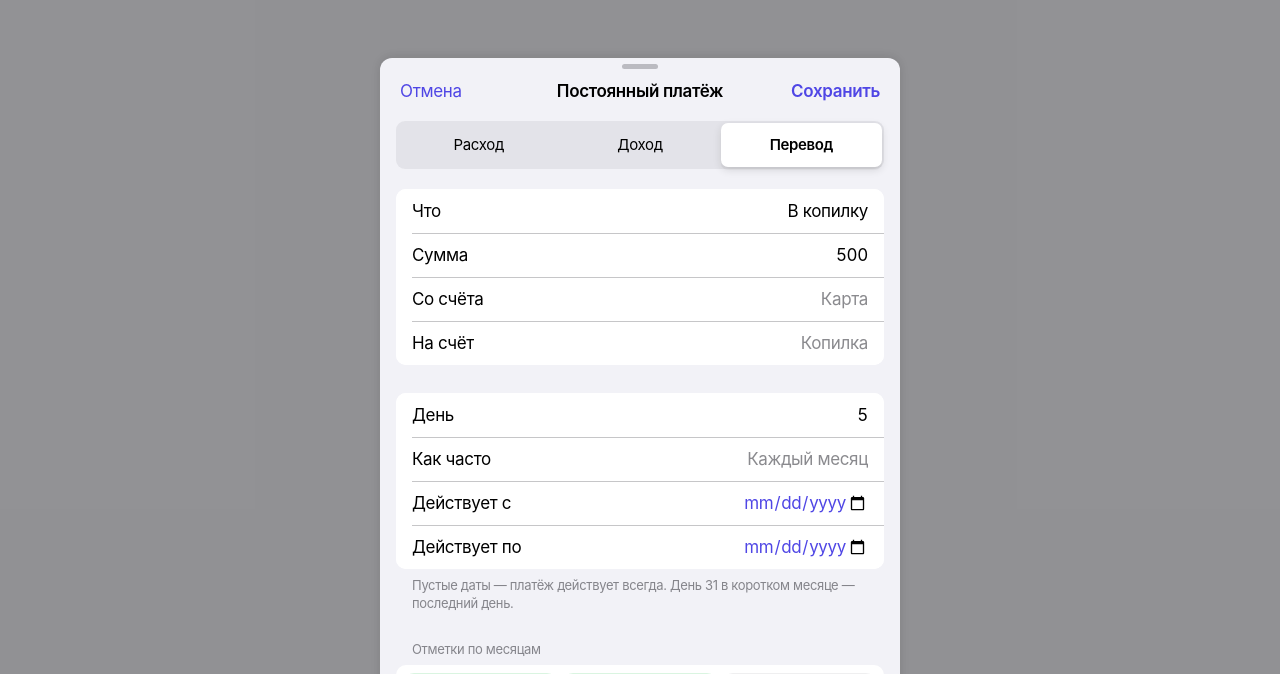
Test: RecurringForm — «Перевод» › editing a recurring transfer keeps «На счёт»; «Доход» on savings shows the hint
The image size is (1280, 674).
Click the radio button labelled "Доход".
click(640, 145)  # box [559,123,721,167]
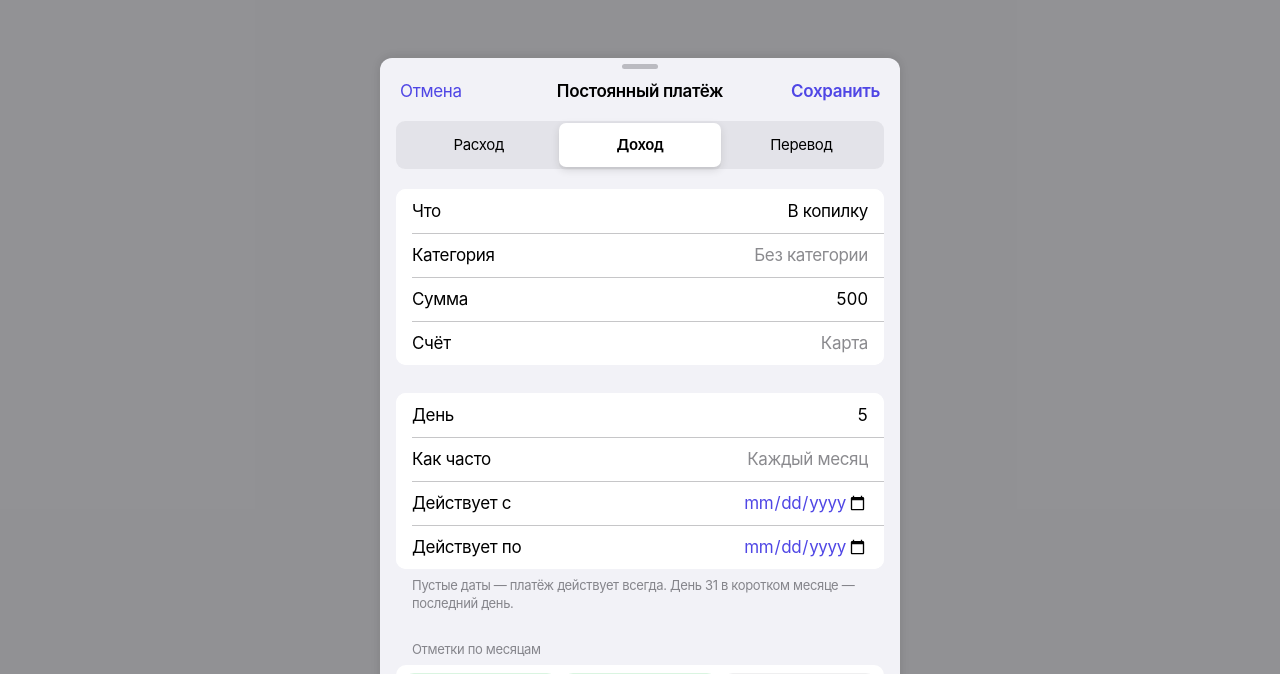
Select "Вклад" in the dropdown labelled "Счёт" at [665, 343], box [463,321,868,365]
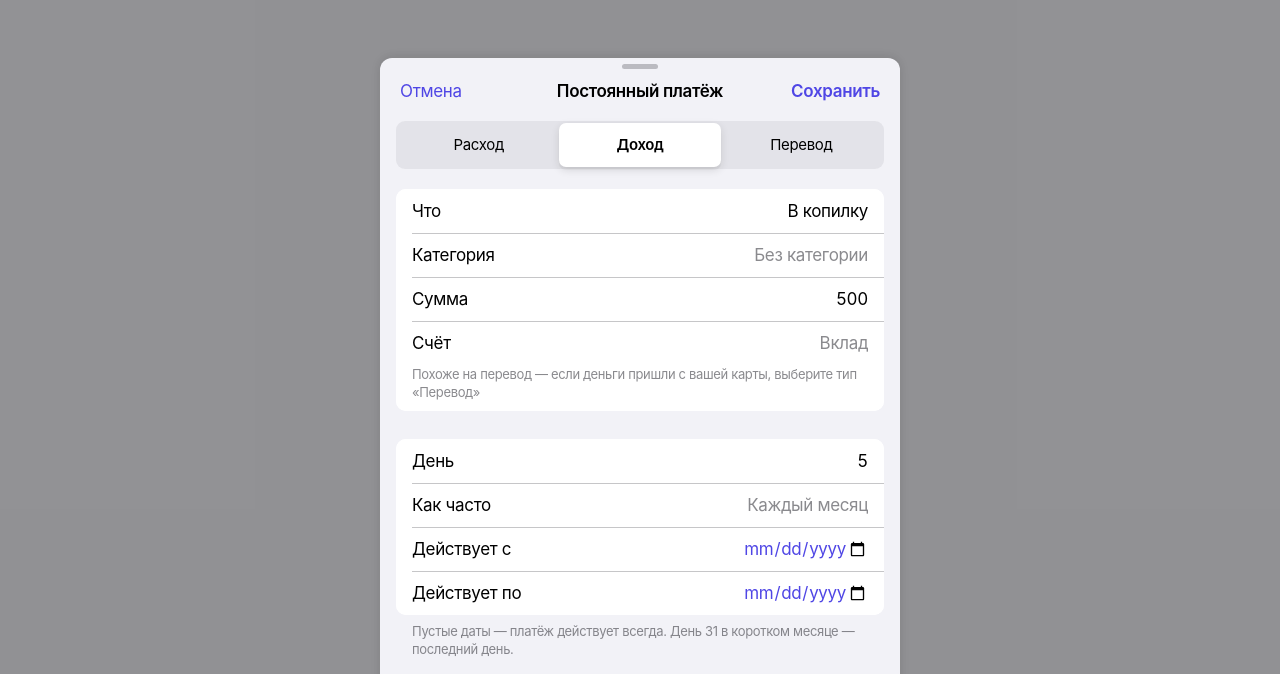
Check: the text "Похоже на перевод — если деньги пришли с вашей карты, выберите тип «Перевод»" is shown, box [396,365,884,411]
